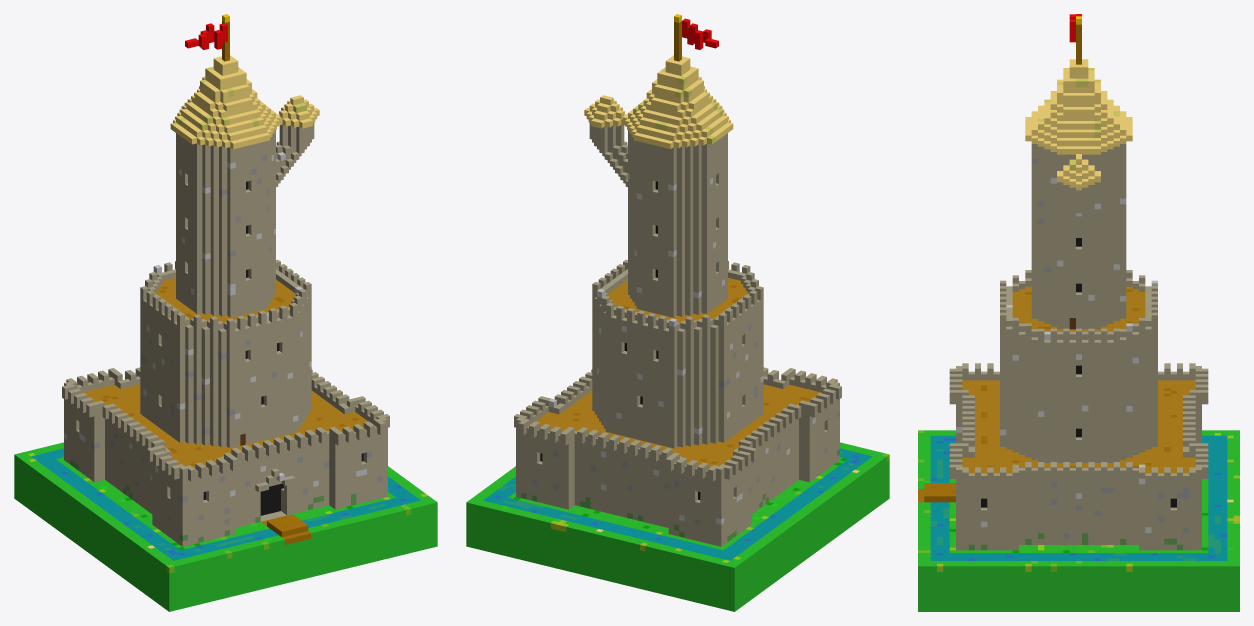
Rendered from main.obj.
3 renders of one model, left to right at view 1: azimuth 30°, elevation 25°; view 2: azimuth 150°, elevation 25°; view 3: azimuth 270°, elevation 25°, orthographic. The views are drawn at different scales.
Size of the model in its own units: 5.1 by 9.2 by 5.1.
1 material, 1 textured.
